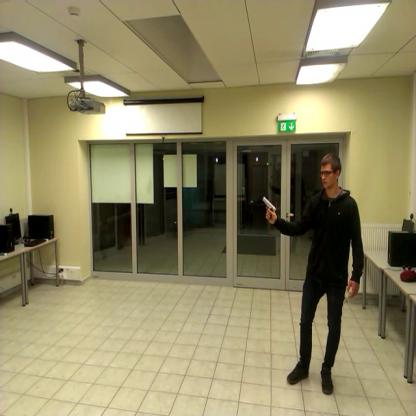Pistol: (255, 189, 280, 232)
